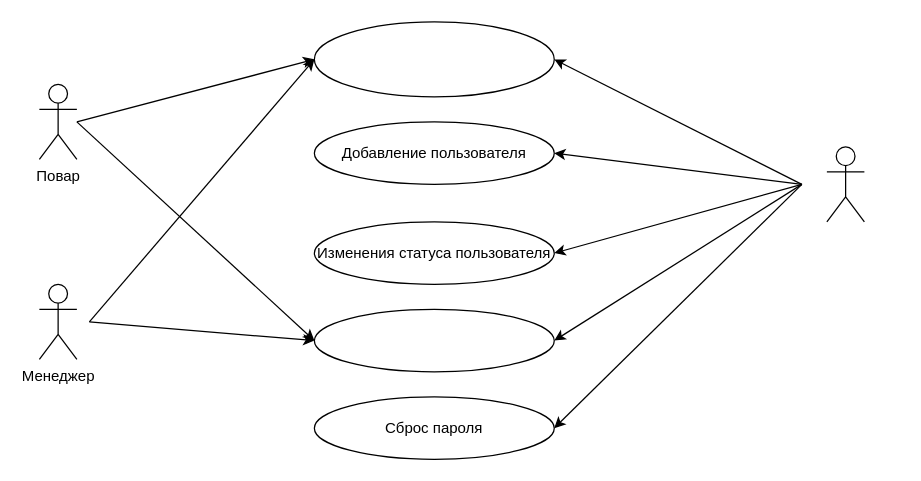
Some shapes in this 921 by 481 pixel diagram are drawn without their labels. The centre of each missing label's shape, as x and y in pixels:
Администратор: [845,184]
Аунтентификация на портале: [433,59]
Изменения пароля: [433,340]
